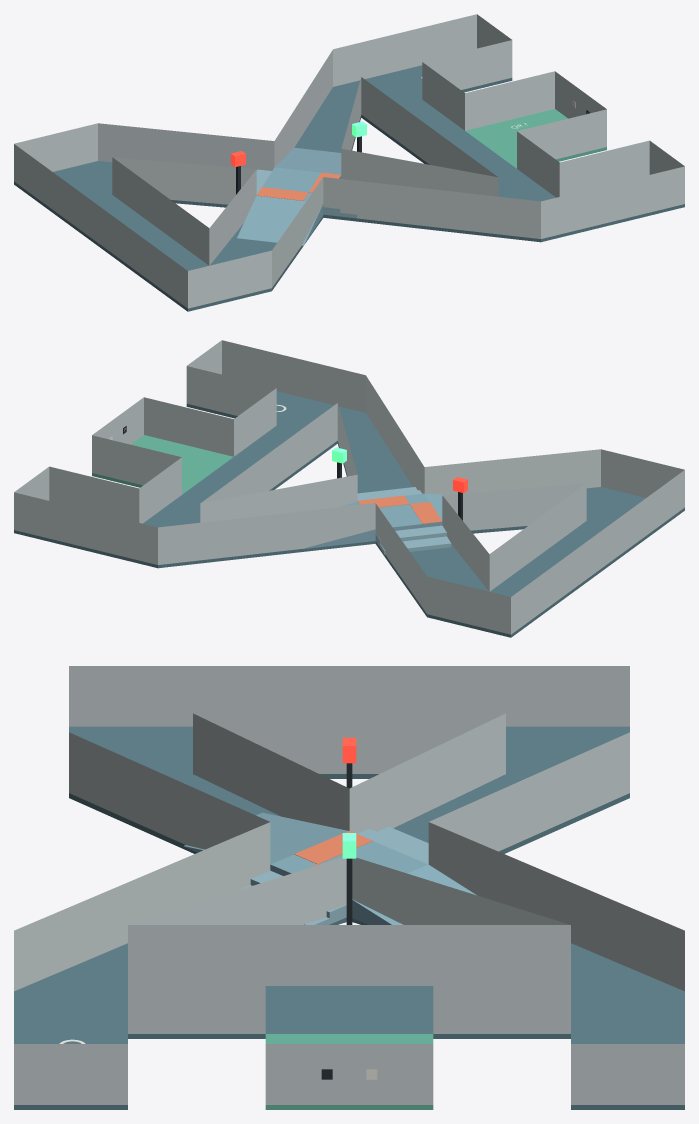
The model's file is arena.glb.
The picture shows the model from 3 angles, top to bottom: view 1: azimuth 30°, elevation 25°; view 2: azimuth 150°, elevation 25°; view 3: azimuth 270°, elevation 25°; orthographic projection. The views are drawn at different scales.
Visible parts, largest first — view 1: wall_outer_03, wall_outer_18, wall_outer_16, wall_outer_04, wall_outer_14, floor_left_straight, wall_inner_1_03, wall_inner_1_01, wall_inner_0_02, wall_inner_0_03, floor_right_straight, wall_outer_10 (+25 smaller); view 2: wall_outer_15, wall_outer_18, wall_outer_14, wall_outer_02, wall_outer_04, floor_left_straight, wall_inner_1_02, wall_inner_1_01, wall_inner_0_01, wall_inner_0_03, floor_right_straight, wall_outer_08 (+26 smaller); view 3: wall_outer_18, wall_inner_1_01, wall_outer_03, wall_outer_15, wall_inner_0_03, wall_outer_16, wall_outer_02, wall_outer_09, floor_right_straight, wall_inner_0_02, wall_inner_0_01, wall_outer_07 (+18 smaller).
Boxes of the visible parts, x1,y1,x2,y2 form: wall_outer_03: (323,177,540,238); wall_outer_18: (14,144,187,308); wall_outer_16: (98,123,274,170); wall_outer_04: (541,166,684,238); wall_outer_14: (333,14,476,86); floor_left_straight: (14,161,271,311); wall_inner_1_03: (341,148,498,196); wall_inner_1_01: (361,77,497,177); wall_inner_0_02: (113,157,256,204); wall_inner_0_03: (112,157,209,265); floor_right_straight: (361,99,555,201); wall_outer_10: (465,71,554,130); wall_outer_15: (158,503,375,564); wall_outer_18: (511,470,684,634); wall_outer_14: (14,492,157,564); wall_outer_02: (424,449,600,494); wall_outer_04: (222,340,365,412); floor_left_straight: (427,487,684,637); wall_inner_1_02: (200,474,357,522); wall_inner_1_01: (201,403,337,503); wall_inner_0_01: (442,483,585,530); wall_inner_0_03: (489,483,586,591); floor_right_straight: (143,425,337,527); wall_outer_08: (144,397,233,456); wall_outer_18: (69,666,629,726); wall_inner_1_01: (128,925,570,985); wall_outer_03: (14,822,270,991); wall_outer_15: (428,822,684,991); wall_inner_0_03: (193,713,505,773); wall_outer_16: (429,732,629,851); wall_outer_02: (69,732,269,849); wall_outer_09: (265,1044,433,1104); floor_right_straight: (128,986,570,1038); wall_inner_0_02: (349,713,505,833); wall_inner_0_01: (193,713,349,830); wall_outer_07: (128,973,265,1033).
Bounding box in the file's own units: 8 × 0.97 × 6.
